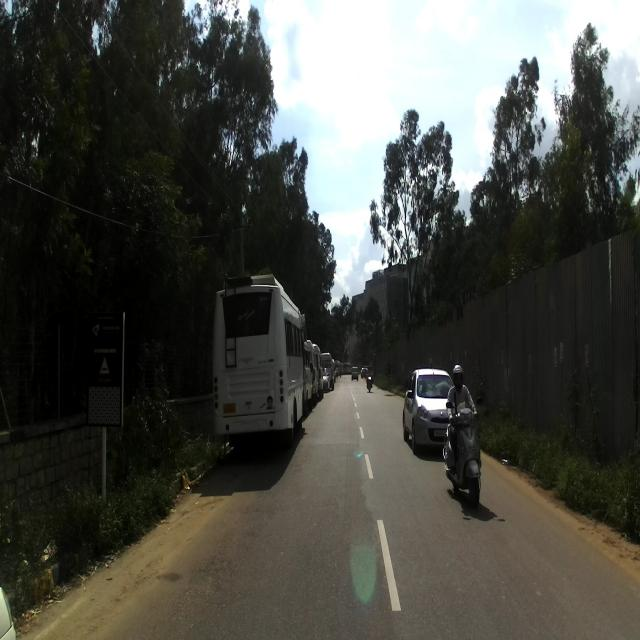bus: (211, 275, 308, 459)
scooter: (444, 395, 484, 509)
